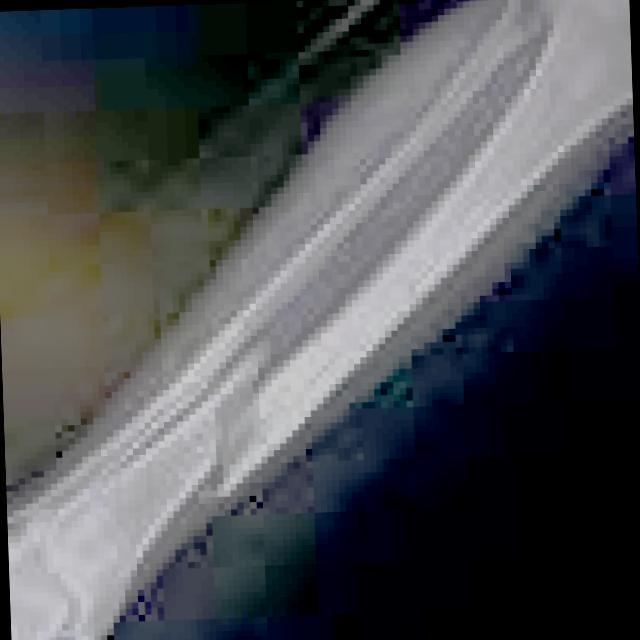Impact Fracture: (203, 346, 285, 498)
